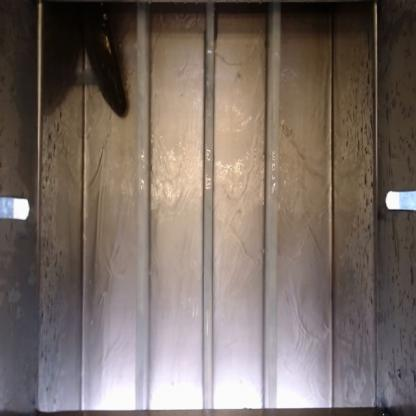pezw: (77, 1, 132, 120)
